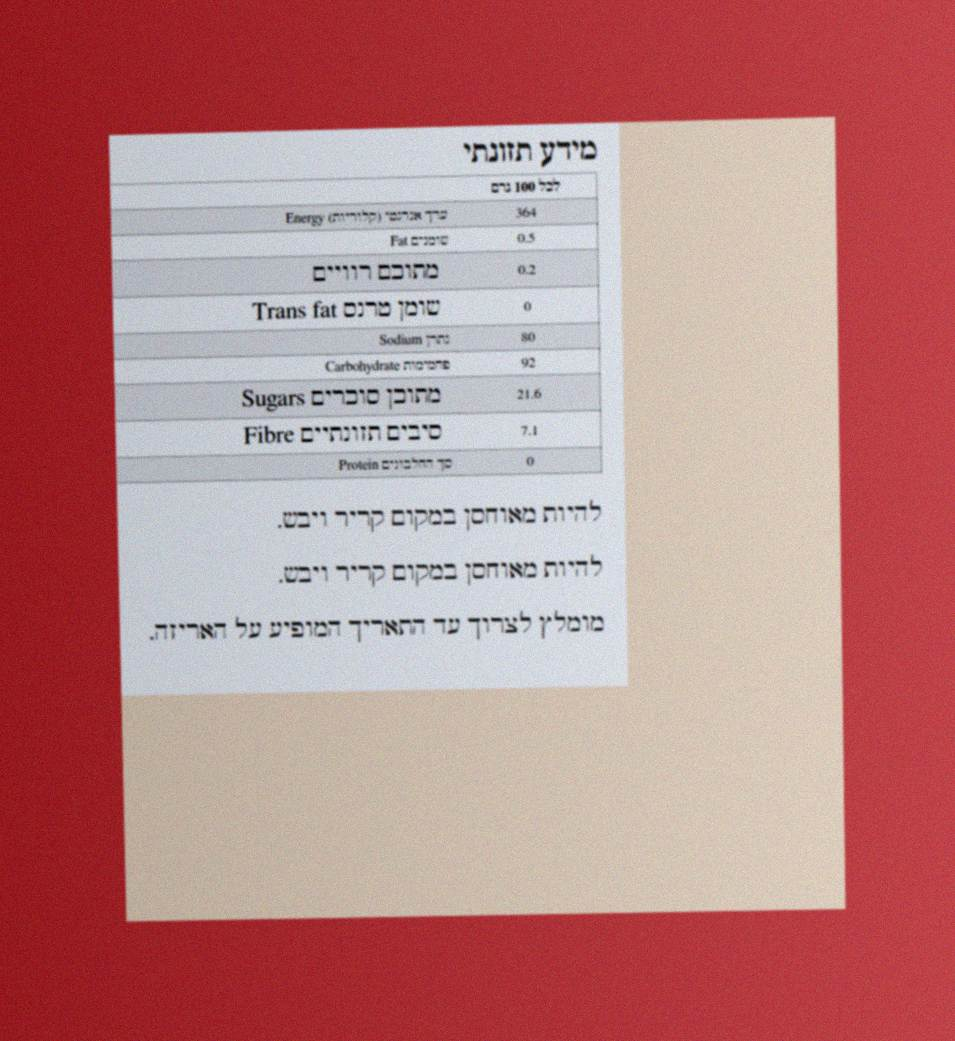carbs: (520, 354, 537, 371)
energy: (514, 204, 538, 222)
fat: (516, 229, 537, 247)
protein: (525, 452, 536, 470)
